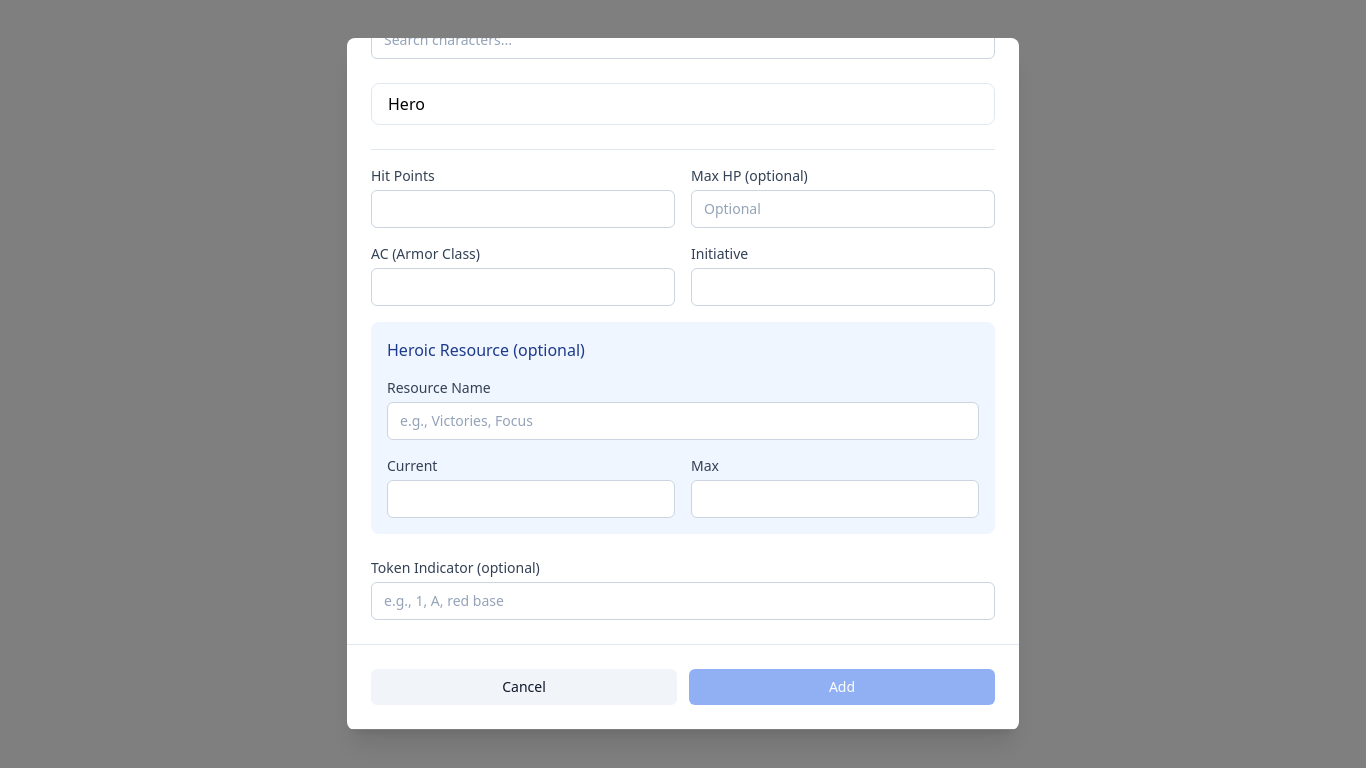
Test case: AddCombatantModal - Form Validation › should show error when heroic resource current exceeds max
The image size is (1366, 768).
(page scrolled)
Type "5" into the number field labelled "Current" at (531, 499), box [387, 480, 675, 518]
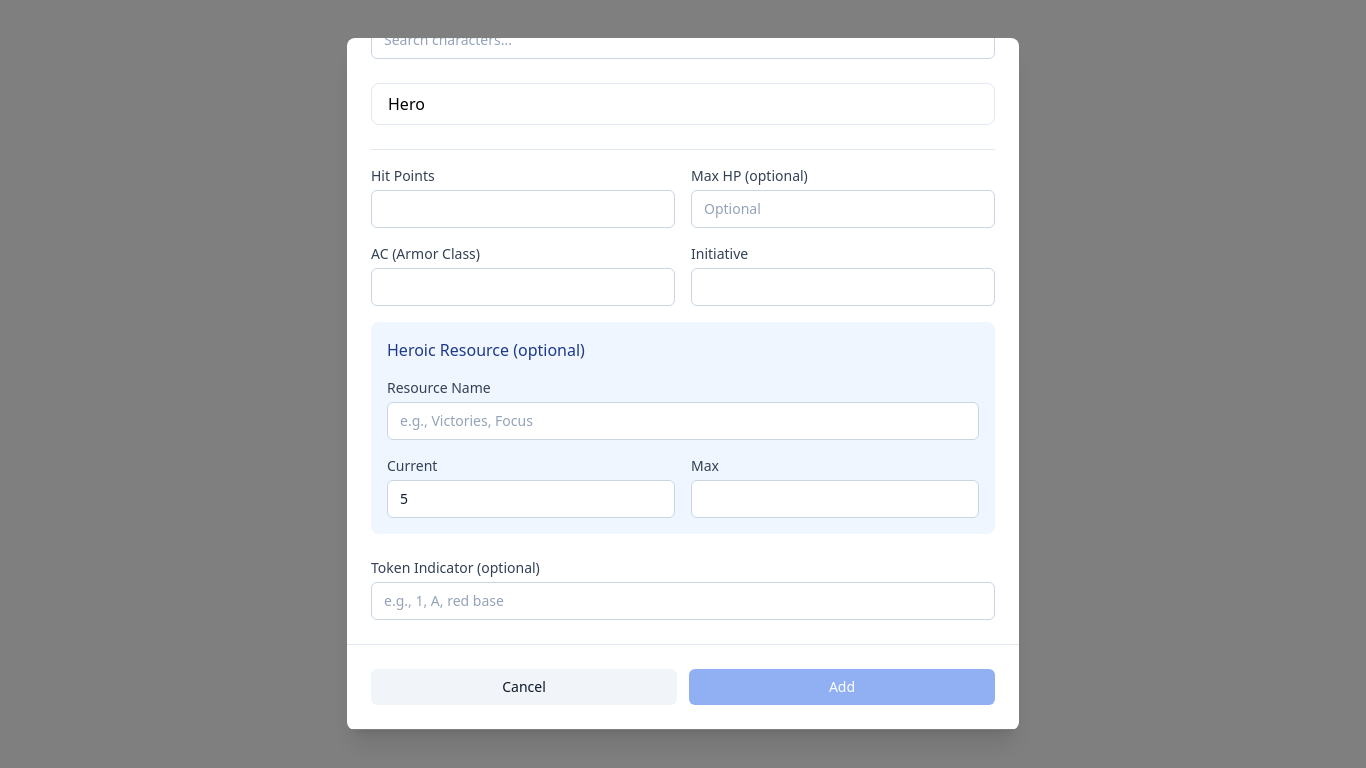
Type "3" into the number field labelled "Max" at (835, 499), box [691, 480, 979, 518]
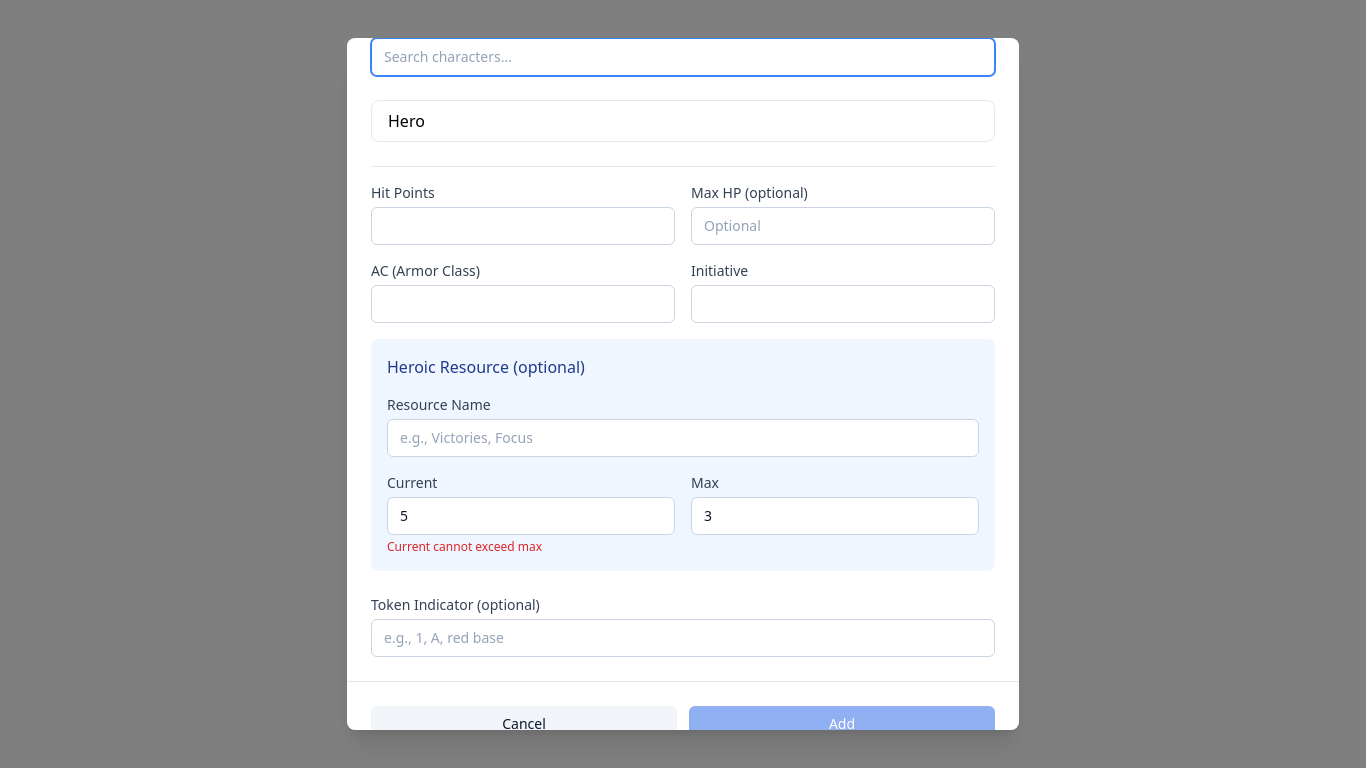
Expected: the text "Current cannot exceed max" is shown, [387, 538, 542, 555]
